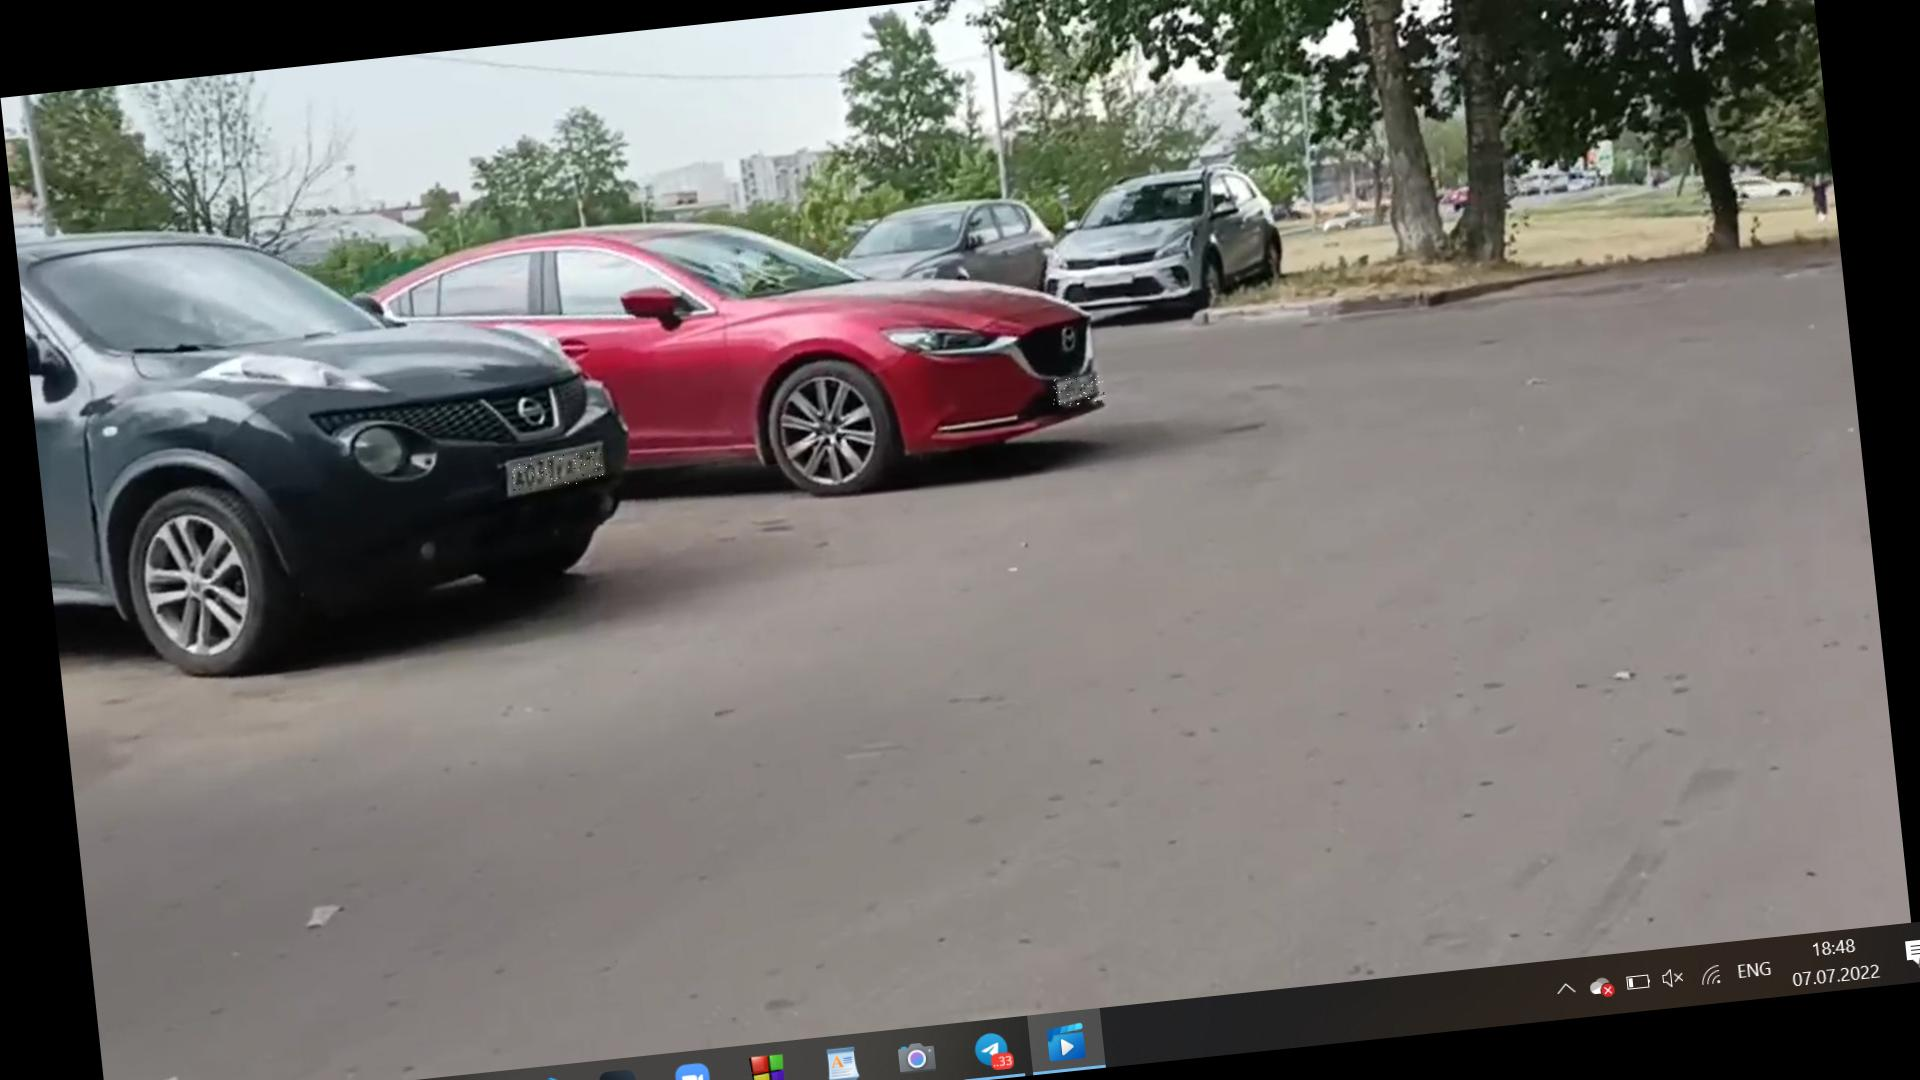plate: (511, 453, 605, 493), (1053, 376, 1108, 409)
